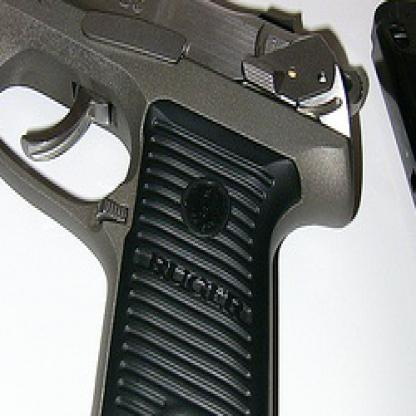gun: (0, 0, 368, 414)
